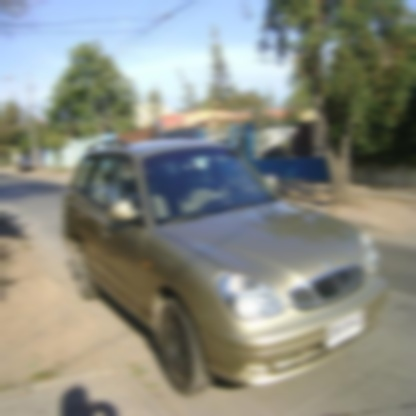Vehicle: (63, 138, 390, 400)
